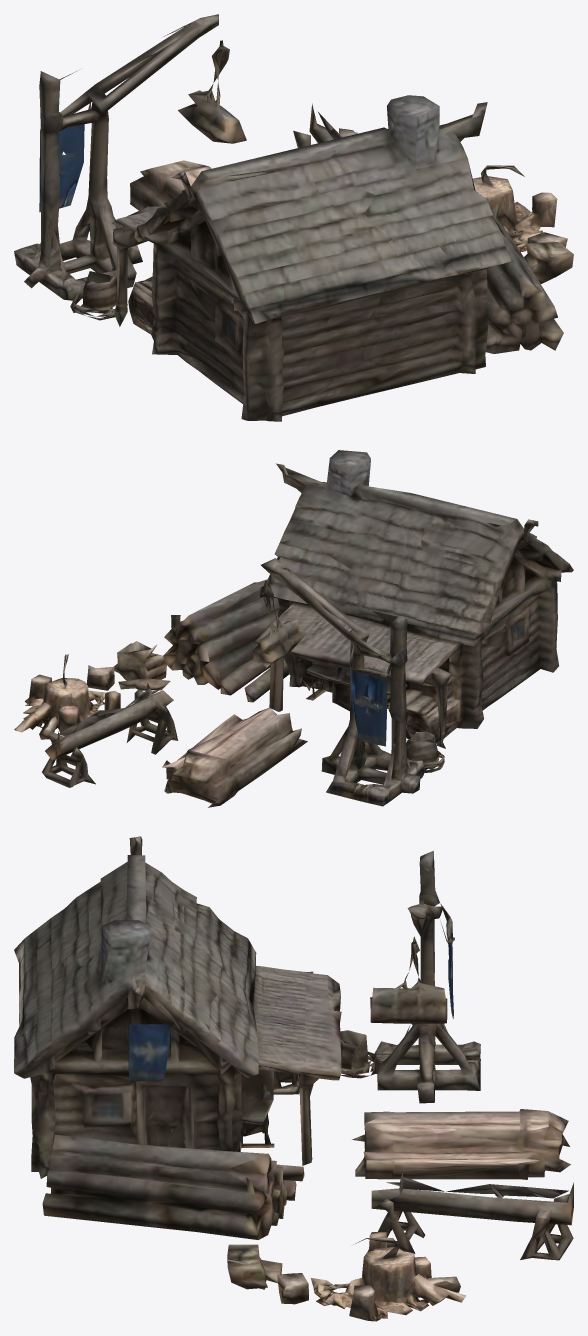
Rendered from lumber_mill_1.glb.
3 views of the same model, one above another, from view 1: azimuth 30°, elevation 25°; view 2: azimuth 150°, elevation 25°; view 3: azimuth 270°, elevation 25° (orthographic). The views are drawn at different scales.
Parts seen in each view (by area): view 1: tripo_node_a58eed08-7fb1-4aa9-9319-aec99c36c451; view 2: tripo_node_a58eed08-7fb1-4aa9-9319-aec99c36c451; view 3: tripo_node_a58eed08-7fb1-4aa9-9319-aec99c36c451.
Part boxes in pixels (bbox=[...]): tripo_node_a58eed08-7fb1-4aa9-9319-aec99c36c451: bbox=[14, 14, 573, 421]; tripo_node_a58eed08-7fb1-4aa9-9319-aec99c36c451: bbox=[14, 450, 573, 807]; tripo_node_a58eed08-7fb1-4aa9-9319-aec99c36c451: bbox=[14, 836, 573, 1321].
Size of the model in its own units: 0.9729 by 0.4982 by 0.9519.
Materials: 1 (1 with a texture image).
